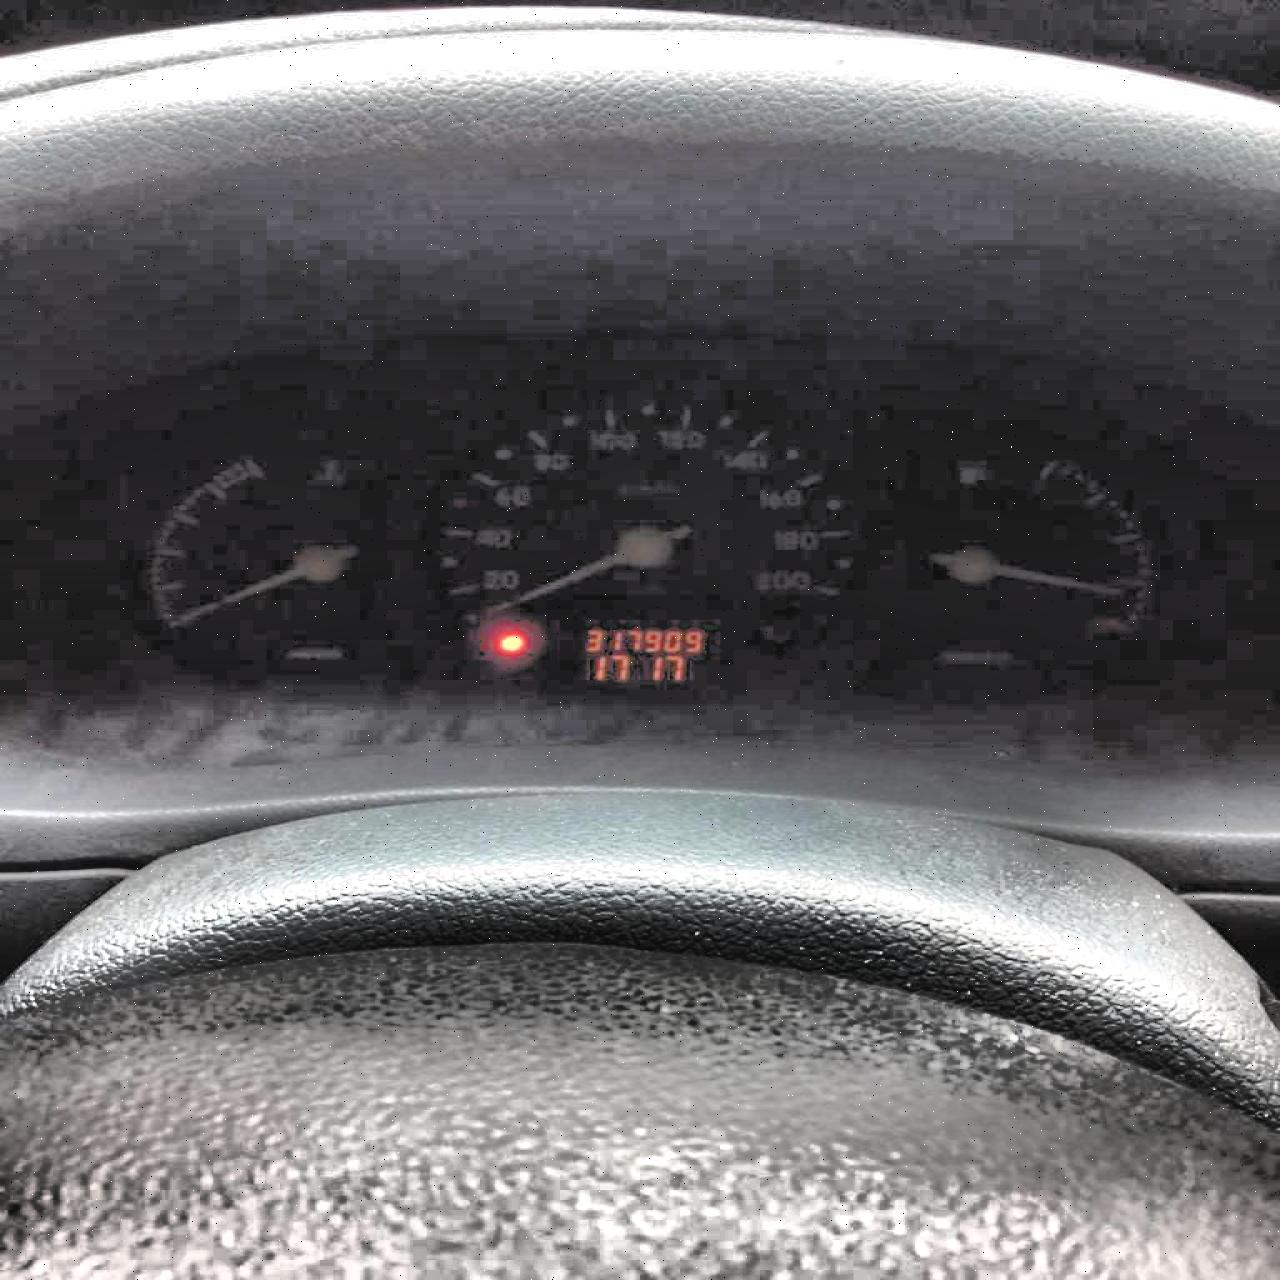0: (662, 629, 680, 651)
1: (595, 655, 605, 679), (652, 655, 660, 680), (612, 629, 621, 651)
3: (586, 628, 601, 652)
7: (610, 653, 628, 679), (665, 654, 683, 680), (627, 629, 640, 649)
9: (644, 628, 660, 652), (686, 629, 702, 651)
odometer: (561, 622, 713, 688)
